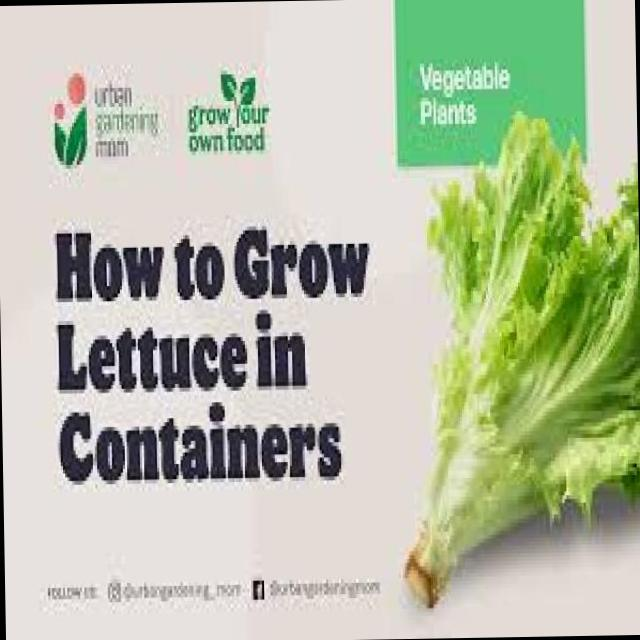Lettuce-Ready-to-Harvest: (406, 117, 640, 605)
